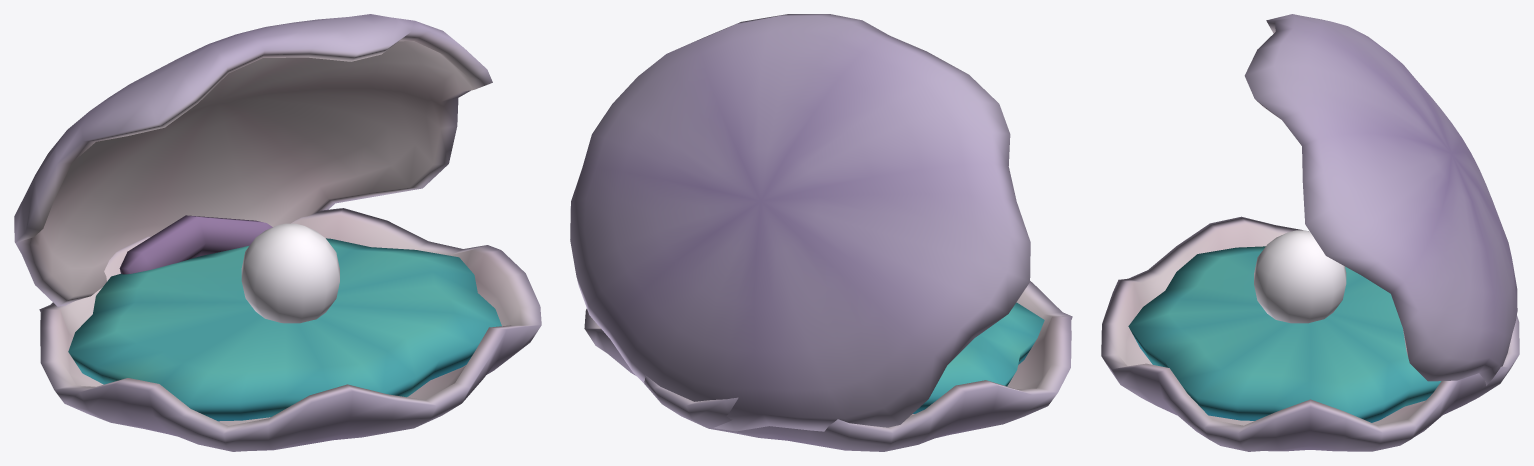
File: rg-tidepool-giantClam.glb
3 views of the same model, side by side, from view 1: azimuth 30°, elevation 25°; view 2: azimuth 150°, elevation 25°; view 3: azimuth 270°, elevation 25° (orthographic). The views are drawn at different scales.
Visible parts, largest first — view 1: rg-tidepool-giantClam, rg-tidepool-giantClam_glow; view 2: rg-tidepool-giantClam; view 3: rg-tidepool-giantClam, rg-tidepool-giantClam_glow.
Boxes of the visible parts, x1,y1,x2,y2 form: rg-tidepool-giantClam: [14, 14, 541, 451]; rg-tidepool-giantClam_glow: [241, 223, 339, 323]; rg-tidepool-giantClam: [570, 14, 1072, 451]; rg-tidepool-giantClam: [1101, 14, 1519, 451]; rg-tidepool-giantClam_glow: [1254, 230, 1346, 323].
Size of the model in its own units: 0.922 by 0.7516 by 0.7874.
